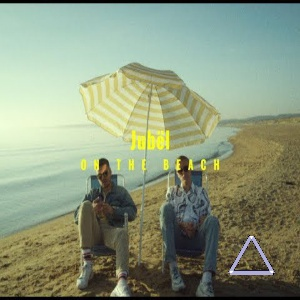triangle: (226, 232, 276, 278)
